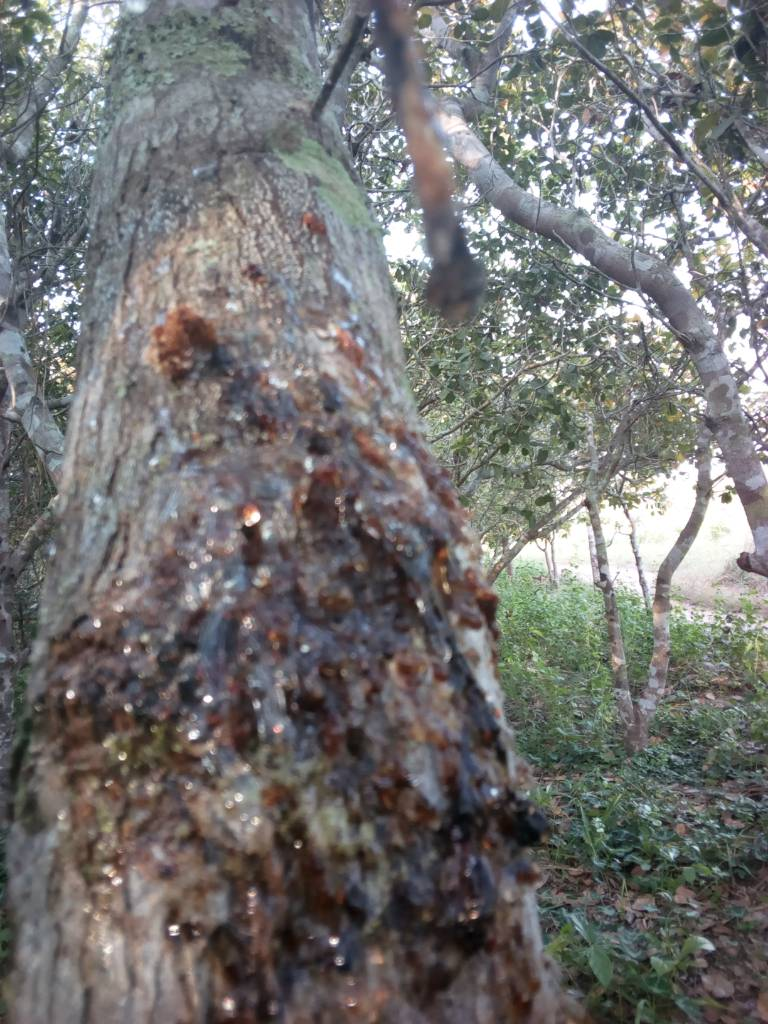Gommose: (49, 466, 541, 1013)
